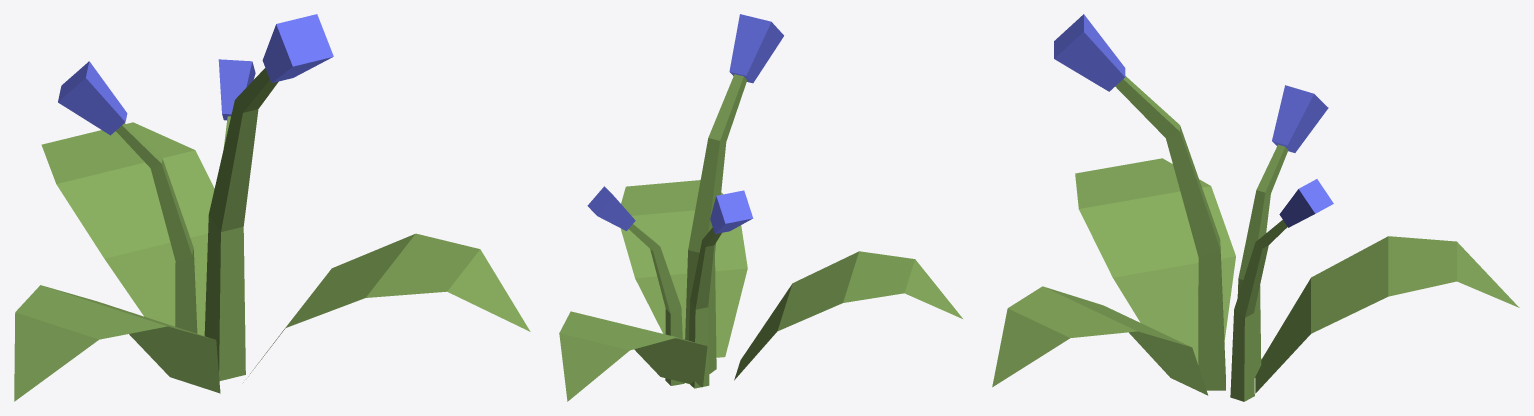
Rendered from Flower_Blue_1.fbx.
3 renders of one model, left to right at view 1: azimuth 30°, elevation 25°; view 2: azimuth 150°, elevation 25°; view 3: azimuth 270°, elevation 25°, orthographic. The views are drawn at different scales.
Visible parts, largest first — view 1: Flower_Blue_1; view 2: Flower_Blue_1; view 3: Flower_Blue_1.
Part boxes in pixels (x1=…): Flower_Blue_1: x1=14, y1=14, x2=530, y2=401; Flower_Blue_1: x1=559, y1=14, x2=962, y2=401; Flower_Blue_1: x1=992, y1=14, x2=1519, y2=401.
Size of the model in its own units: 51.38 by 44.05 by 57.4.
